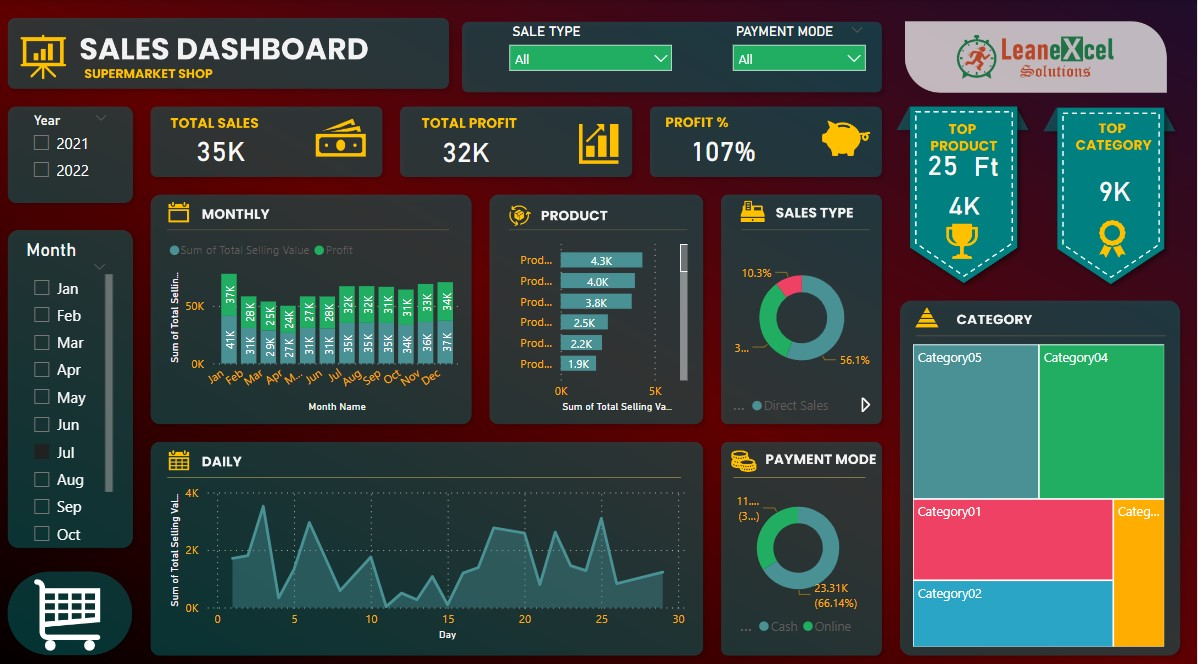

Layout of this report page (visuals, bound fields, positions):
{"tool":"powerbi","page":{"name":"Page 1","canvas":[1280,720],"ordinal":0},"visuals":[{"type":"slicer","fields":{"Values":["InputData.Year"]},"box":[33.4,114.4,103.3,92.2],"z":0},{"type":"slicer","fields":{"Values":["InputData.SALE TYPE"]},"box":[540.4,20.7,192.3,79.5],"z":1000},{"type":"slicer","title":"Month","fields":{"Values":["InputData.Month Name"]},"box":[33.4,254.3,101.7,325.8],"z":2000},{"type":"slicer","fields":{"Values":["InputData.PAYMENT MODE"]},"box":[777.2,20.7,160.5,79.5],"z":3000},{"type":"card","fields":{"Values":["Sum(InputData.Total Selling Price)"]},"box":[1149.1,170.1,84.2,63.6],"z":4000},{"type":"card","fields":{"Values":["Sum(InputData.Total Selling Price)"]},"box":[991.8,201.9,81.1,31.8],"z":5000},{"type":"card","fields":{"Values":["Min(InputData.MasterData.UOM)"]},"box":[1023.6,155.8,63.6,39.7],"z":6000},{"type":"card","fields":{"Values":["Sum(InputData.QUANTITY)"]},"box":[963.2,154.2,92.2,39.7],"z":7000},{"type":"card","fields":{"Values":["InputData.Profit %"]},"box":[715.2,136.7,122.4,44.5],"z":8000},{"type":"card","fields":{"Values":["InputData.Profit"]},"box":[446.6,136.7,114.4,47.7],"z":9000},{"type":"card","fields":{"Values":["Sum(InputData.Total Selling Price)"]},"box":[184.4,136.7,119.2,44.5],"z":10000},{"type":"columnChart","fields":{"Y":["Sum(InputData.Total Selling Value)","InputData.Profit"],"Category":["InputData.Month Name"]},"box":[184.4,246.4,319.5,195.5],"z":11000},{"type":"barChart","fields":{"Y":["Sum(InputData.Total Selling Value)"],"Category":["InputData.MasterData.PRODUCT"]},"box":[540.4,246.4,203.4,195.5],"z":12000},{"type":"areaChart","fields":{"Y":["Sum(InputData.Total Selling Value)"],"Category":["InputData.Day"]},"box":[184.4,508.6,559.5,174.8],"z":13000},{"type":"donutChart","fields":{"Y":["Sum(InputData.Total Selling Value)"],"Category":["InputData.SALE TYPE"]},"box":[782,254.3,155.8,195.5],"z":14000},{"type":"donutChart","fields":{"Y":["Sum(InputData.Total Selling Value)"],"Category":["InputData.PAYMENT MODE"]},"box":[782,508.6,147.8,174.8],"z":15000},{"type":"treemap","fields":{"Values":["Sum(InputData.Total Selling Value)"],"Group":["InputData.MasterData.CATEGORY"]},"box":[972.7,360.8,276.6,330.6],"z":16000}]}

Visuals, with their boxes in screenshot pixels (x1, y1, x2, y2), scaled from the page's 1280x720 canvas onto the 1198x664 screenshot:
slicer - InputData.Year: l=31, t=106, r=128, b=191
slicer - InputData.SALE TYPE: l=506, t=19, r=686, b=92
"Month" slicer: l=31, t=235, r=126, b=535
slicer - InputData.PAYMENT MODE: l=727, t=19, r=878, b=92
card - Sum(InputData.Total Selling Price): l=1075, t=157, r=1154, b=216
card - Sum(InputData.Total Selling Price): l=928, t=186, r=1004, b=216
card - Min(InputData.MasterData.UOM): l=958, t=144, r=1018, b=180
card - Sum(InputData.QUANTITY): l=901, t=142, r=988, b=179
card - InputData.Profit %: l=669, t=126, r=784, b=167
card - InputData.Profit: l=418, t=126, r=525, b=170
card - Sum(InputData.Total Selling Price): l=173, t=126, r=284, b=167
columnChart - Sum(InputData.Total Selling Value) x InputData.Profit: l=173, t=227, r=472, b=408
barChart - Sum(InputData.Total Selling Value) x InputData.MasterData.PRODUCT: l=506, t=227, r=696, b=408
areaChart - Sum(InputData.Total Selling Value) x InputData.Day: l=173, t=469, r=696, b=630
donutChart - Sum(InputData.Total Selling Value) x InputData.SALE TYPE: l=732, t=235, r=878, b=415
donutChart - Sum(InputData.Total Selling Value) x InputData.PAYMENT MODE: l=732, t=469, r=870, b=630
treemap - Sum(InputData.Total Selling Value) x InputData.MasterData.CATEGORY: l=910, t=333, r=1169, b=638
